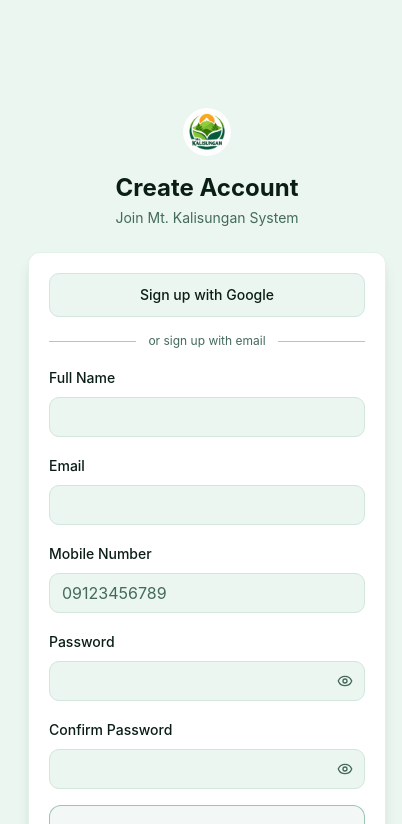
signup without application OTP › preserves the Google OAuth bridge and onboarding route
Click the button "Sign up with Google".
click(207, 295)  # box [49,273,365,317]
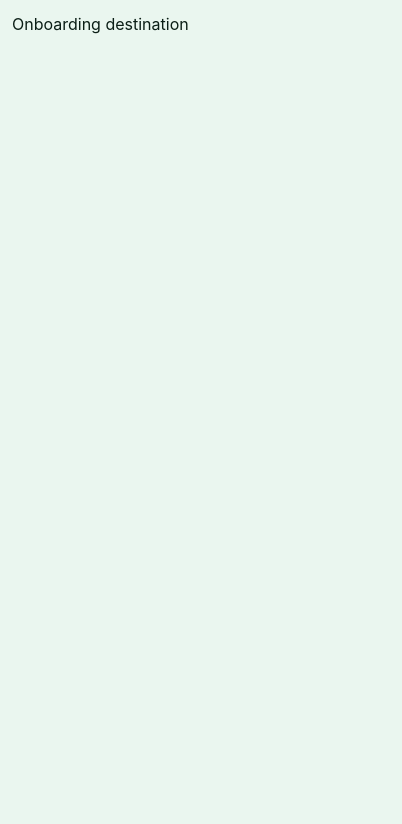
Expected: the text "Onboarding destination" is shown, [12,14,189,34]
